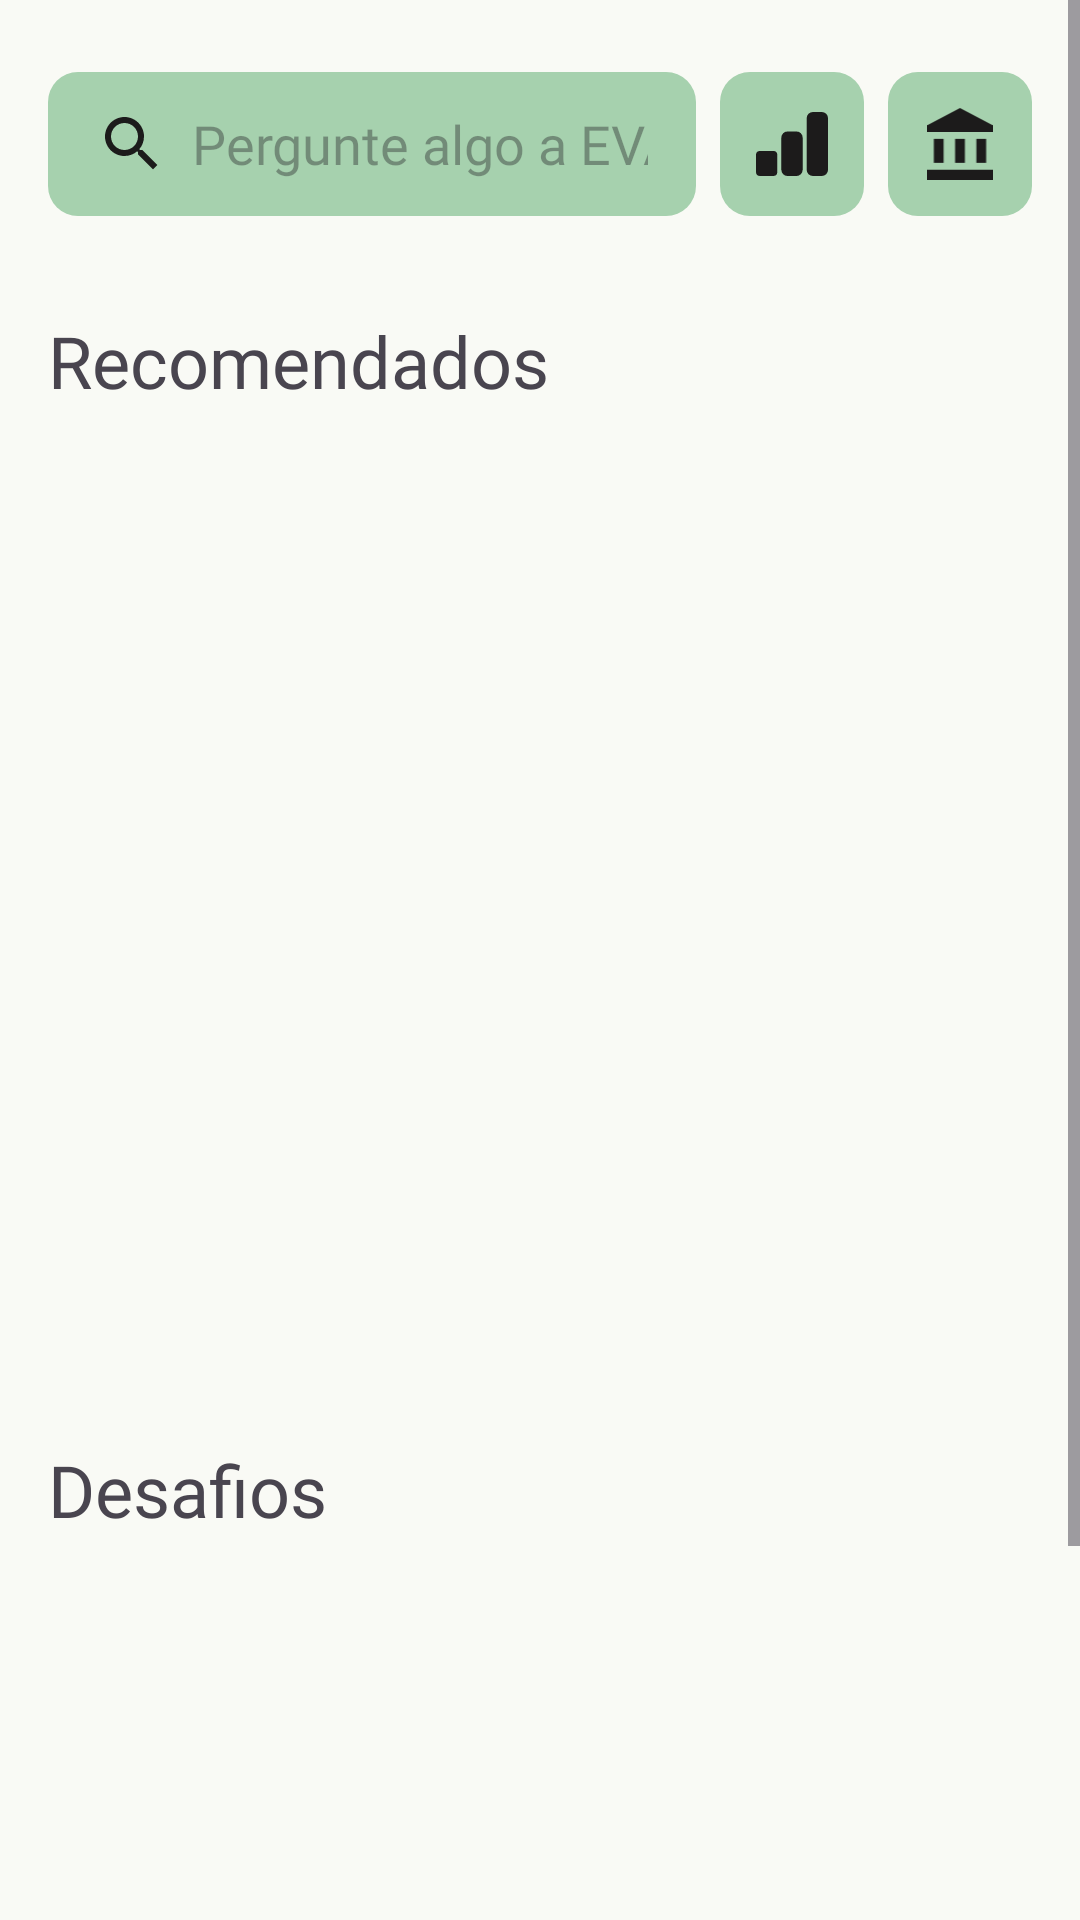

Icons on this 1080w x 1920h Android screen, each with its box as {"left": x1, "top": y1, "right": x2, "bottom": y2}:
guia legal: {"left": 888, "top": 72, "right": 1032, "bottom": 216}
painel impacto: {"left": 720, "top": 72, "right": 864, "bottom": 216}
